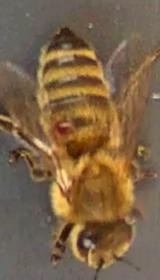varroa_mite: (48, 112, 78, 142)
